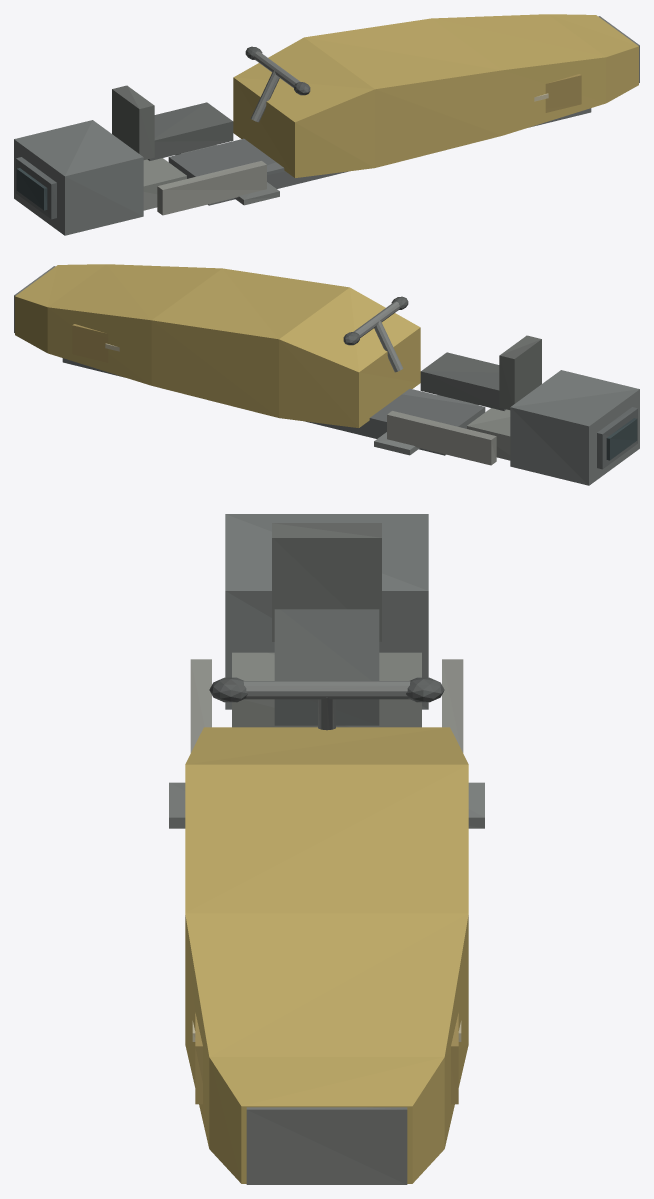
Rendered from spacebike.glb.
The picture shows the model from 3 angles, top to bottom: view 1: azimuth 30°, elevation 25°; view 2: azimuth 150°, elevation 25°; view 3: azimuth 270°, elevation 25°; orthographic projection. The views are drawn at different scales.
Visible parts, largest first — view 1: forward_hull, rear_engine_block, cockpit_side_-0.47, seat_base, underside_spine, seat_back, rear_frame, side_panel_-0.47, exhaust_frame, exhaust_inner, steering_column, handlebars (+1 smaller); view 2: forward_hull, rear_engine_block, cockpit_side_0.47, seat_base, underside_spine, seat_back, rear_frame, side_panel_0.47, exhaust_frame, exhaust_inner, steering_column, handlebars (+1 smaller); view 3: forward_hull, rear_engine_block, nose_bulkhead, seat_base, seat_back, rear_frame, handlebars, cockpit_side_-0.47, cockpit_side_0.47.
Boxes of the visible parts, left/top/right/bottom form: forward_hull: left=233, top=14, right=638, bottom=177; rear_engine_block: left=14, top=120, right=143, bottom=235; cockpit_side_-0.47: left=157, top=161, right=266, bottom=215; seat_base: left=147, top=102, right=233, bottom=160; underside_spine: left=168, top=108, right=591, bottom=205; seat_back: left=112, top=85, right=154, bottom=159; rear_frame: left=143, top=158, right=186, bottom=210; side_panel_-0.47: left=545, top=74, right=581, bottom=112; exhaust_frame: left=16, top=157, right=56, bottom=219; exhaust_inner: left=16, top=168, right=47, bottom=210; steering_column: left=250, top=70, right=279, bottom=122; handlebars: left=254, top=51, right=300, bottom=87; forward_hull: left=15, top=264, right=420, bottom=427; rear_engine_block: left=510, top=370, right=639, bottom=485; cockpit_side_0.47: left=387, top=411, right=496, bottom=465; seat_base: left=420, top=352, right=506, bottom=410; underside_spine: left=62, top=358, right=485, bottom=455; seat_back: left=499, top=335, right=541, bottom=409; rear_frame: left=467, top=408, right=510, bottom=460; side_panel_0.47: left=72, top=324, right=108, bottom=362; exhaust_frame: left=597, top=407, right=637, bottom=469; exhaust_inner: left=606, top=418, right=637, bottom=460; steering_column: left=374, top=320, right=403, bottom=372; handlebars: left=353, top=301, right=399, bottom=337; forward_hull: left=185, top=727, right=468, bottom=1183; rear_engine_block: left=225, top=514, right=428, bottom=709; nose_bulkhead: left=246, top=1107, right=407, bottom=1184; seat_base: left=274, top=609, right=379, bottom=725; seat_back: left=272, top=523, right=381, bottom=641; rear_frame: left=232, top=652, right=421, bottom=727; handlebars: left=243, top=681, right=410, bottom=699; cockpit_side_-0.47: left=190, top=659, right=211, bottom=752; cockpit_side_0.47: left=442, top=659, right=463, bottom=752.
Bounding box in the file's own units: 5.09 × 0.885 × 1.18.
